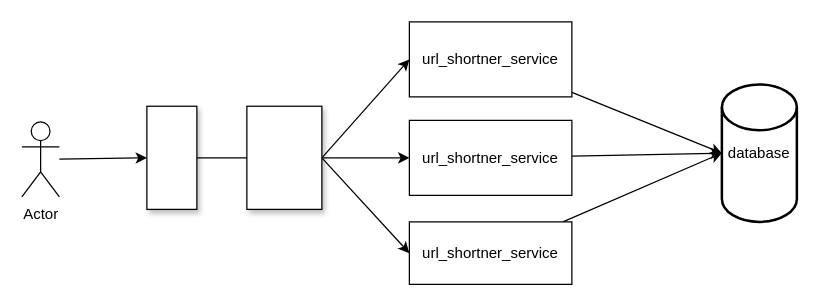
Some shapes in this 820 by 306 pixel diagram are drawn without their labels. Here are the shapes that lost their labels. From the top down, the centre of each, then its label:
point (172, 159): UI
point (285, 159): Load Balancer
